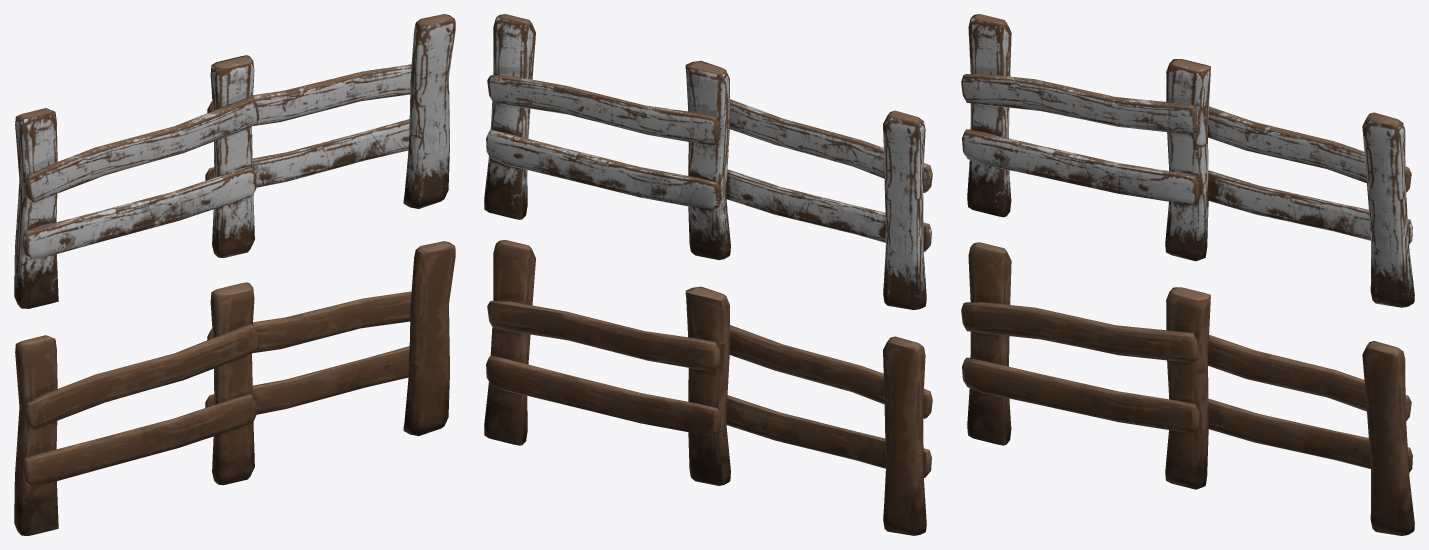
The model's file is Fence.fbx.
3 renders of one model, left to right at view 1: azimuth 30°, elevation 25°; view 2: azimuth 150°, elevation 25°; view 3: azimuth 330°, elevation 25°, orthographic.
Visible parts, largest first — view 1: g Group3428; view 2: g Group3428; view 3: g Group3428.
Boxes of the visible parts, x1,y1,x2,y2 form: g Group3428: (14,14,455,535); g Group3428: (484,14,932,535); g Group3428: (961,14,1414,535).
Size of the model in its own units: 311 by 287 by 28.7.
